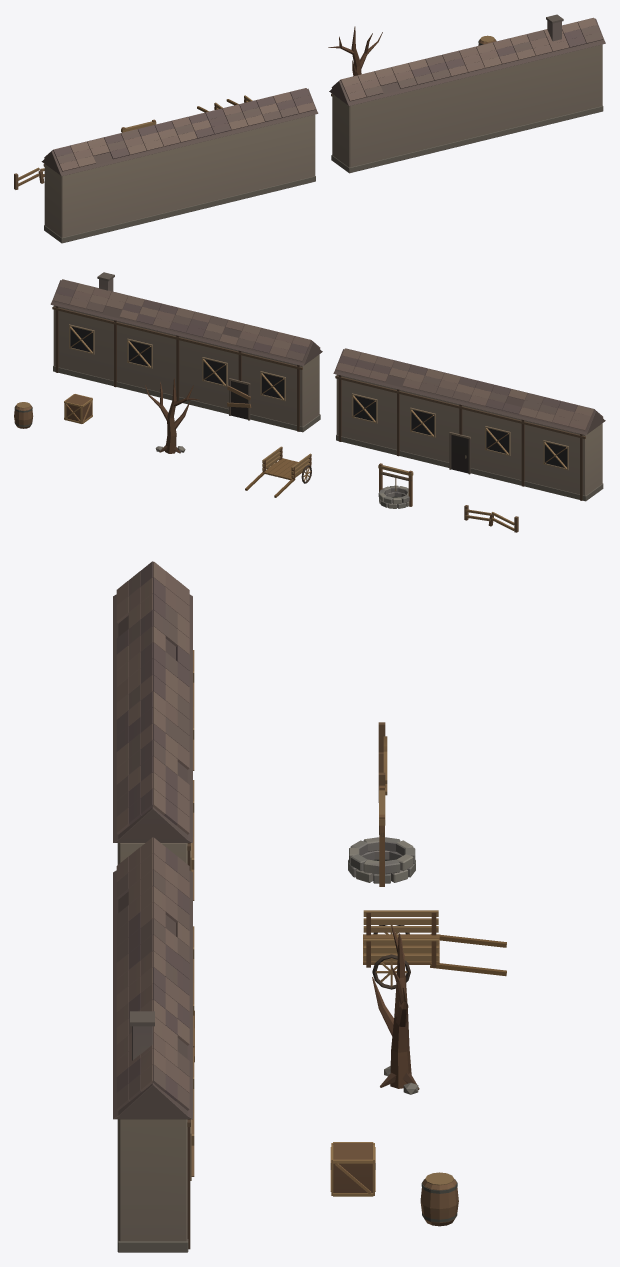
Rendered from village.glb.
3 renders of one model, top to bottom at view 1: azimuth 30°, elevation 25°; view 2: azimuth 150°, elevation 25°; view 3: azimuth 270°, elevation 25°, orthographic. The views are drawn at different scales.
Visible parts, largest first — view 1: AV_HouseLongB__Body, AV_HouseLongA__Body, AV_DeadTree__Body; view 2: AV_HouseLongB__Body, AV_HouseLongA__Body, AV_Cart__Body, AV_Well__Body, AV_DeadTree__Body, SH_Crate__Body, AV_FenceBroken__Body, SH_Barrel__Body; view 3: AV_HouseLongB__Body, AV_HouseLongA__Body, AV_Cart__Body, AV_Well__Body, AV_DeadTree__Body, SH_Crate__Body, SH_Barrel__Body.
Part boxes in pixels (x1,y1,x2,y2): AV_HouseLongB__Body: (329,14,605,173); AV_HouseLongA__Body: (41,88,318,243); AV_DeadTree__Body: (328,26,382,76); AV_HouseLongB__Body: (50,272,322,432); AV_HouseLongA__Body: (333,348,605,501); AV_Cart__Body: (245,446,311,497); AV_Well__Body: (378,463,413,508); AV_DeadTree__Body: (145,378,199,453); SH_Crate__Body: (64,394,92,423); AV_FenceBroken__Body: (464,505,518,532); SH_Barrel__Body: (14,402,33,428); AV_HouseLongB__Body: (113,837,194,1252); AV_HouseLongA__Body: (113,561,194,900); AV_Cart__Body: (363,910,506,989); AV_Well__Body: (348,785,415,886); AV_DeadTree__Body: (372,925,419,1094); SH_Crate__Body: (330,1142,375,1196); SH_Barrel__Body: (420,1172,458,1226).
Bounding box in the file's own units: 129 × 22.43 × 41.
